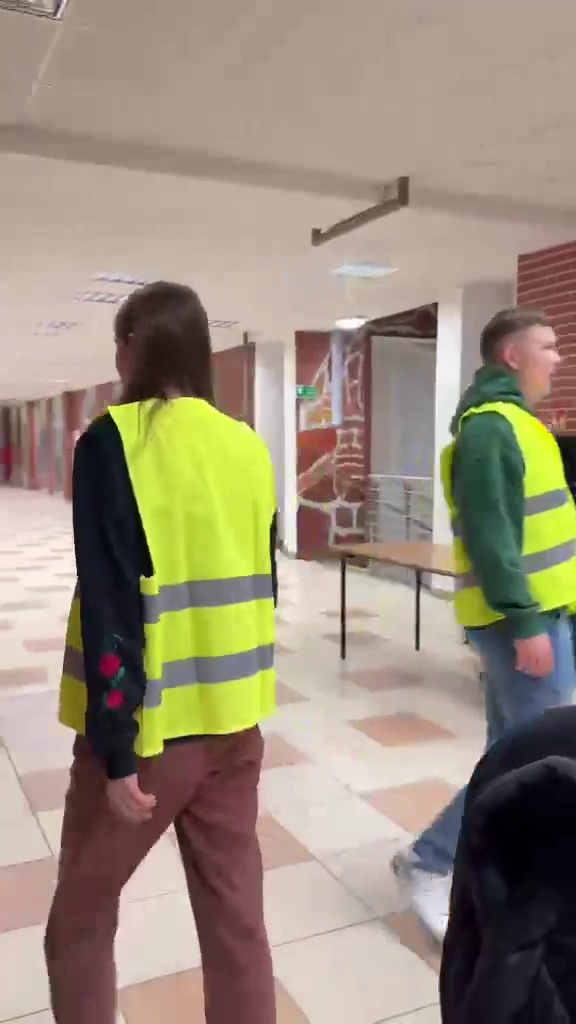vest: (53, 274, 274, 1009), (396, 301, 576, 935)
